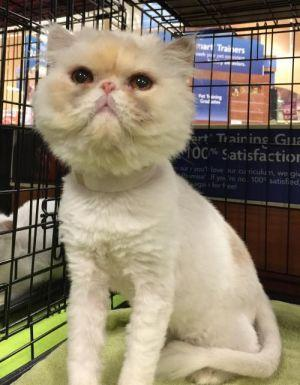persian: (29, 18, 202, 187)
